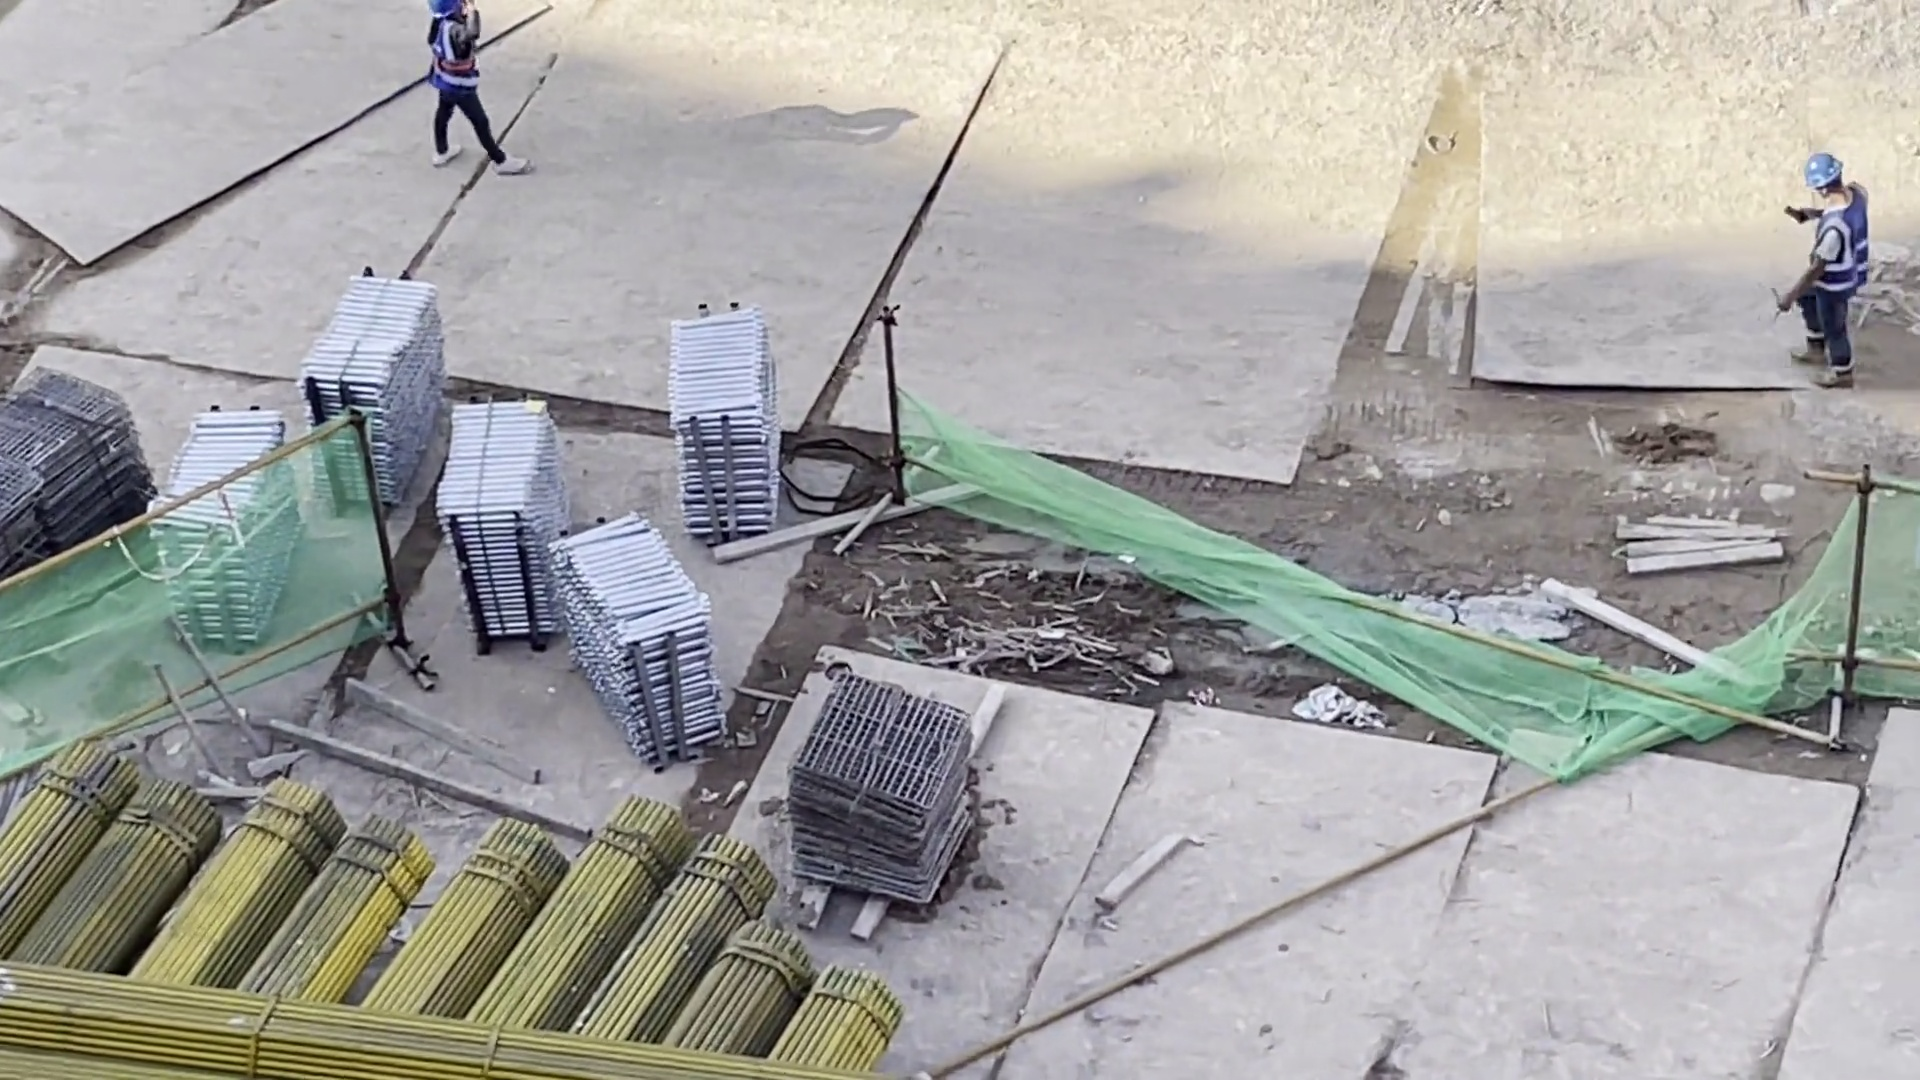helmet: (1781, 145, 1855, 197), (422, 1, 475, 17)
person: (1755, 142, 1877, 400), (402, 1, 562, 175)
scaffold: (553, 524, 726, 752), (150, 392, 301, 628), (654, 307, 806, 524), (435, 394, 566, 645), (304, 264, 439, 504)
vest: (1795, 190, 1883, 304), (423, 18, 485, 102)
